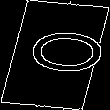O_E: (7, 30, 103, 80)
